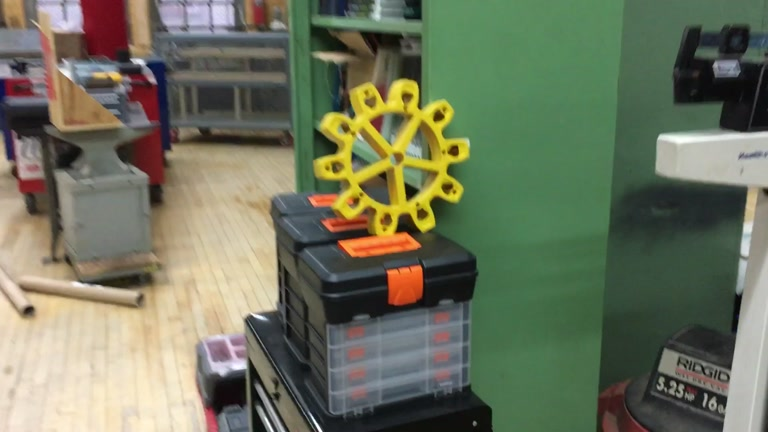gear: (313, 77, 470, 235)
